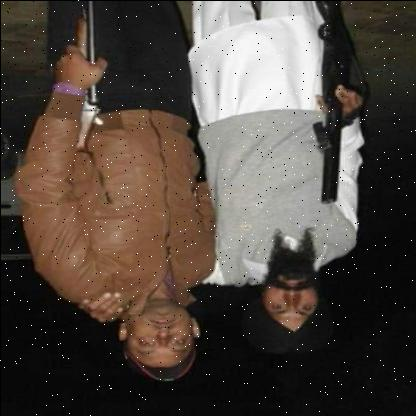rifle: (307, 1, 373, 205), (66, 0, 107, 150)
